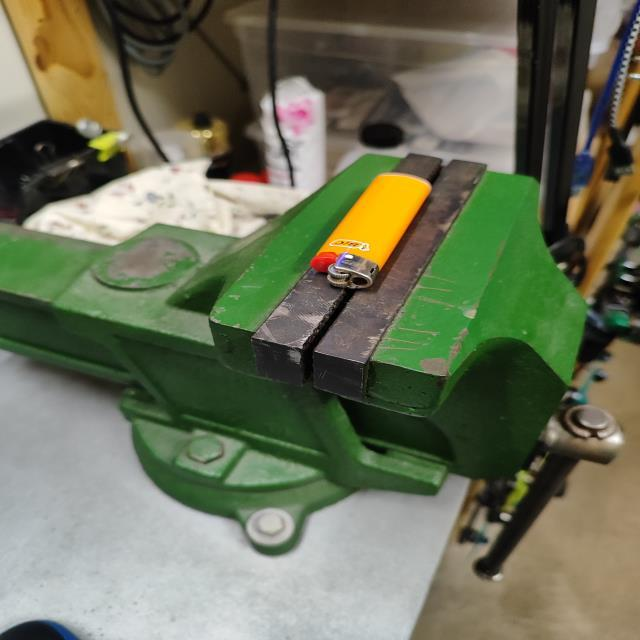lighter: (312, 174, 430, 271)
